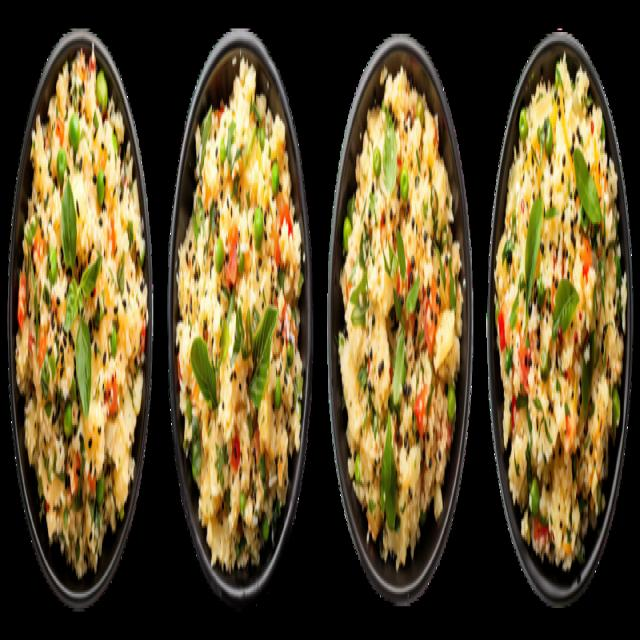UPMA: (15, 52, 149, 574), (495, 57, 626, 567), (176, 59, 303, 569), (336, 68, 463, 565)
